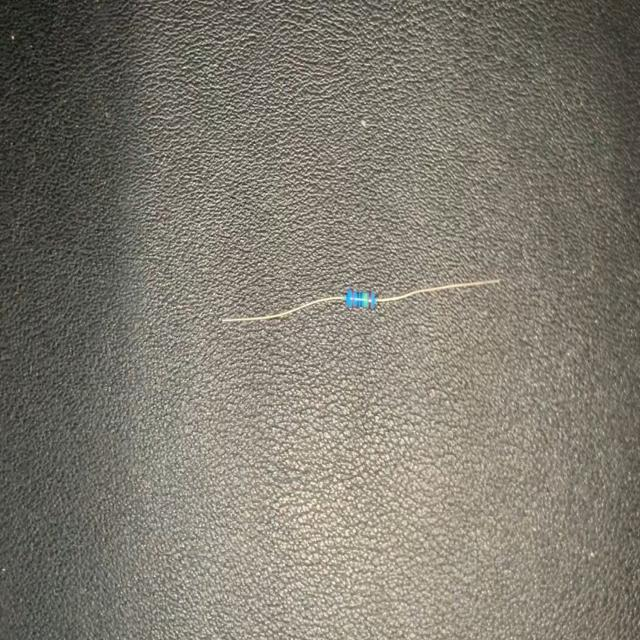resistor: (223, 277, 502, 325)
